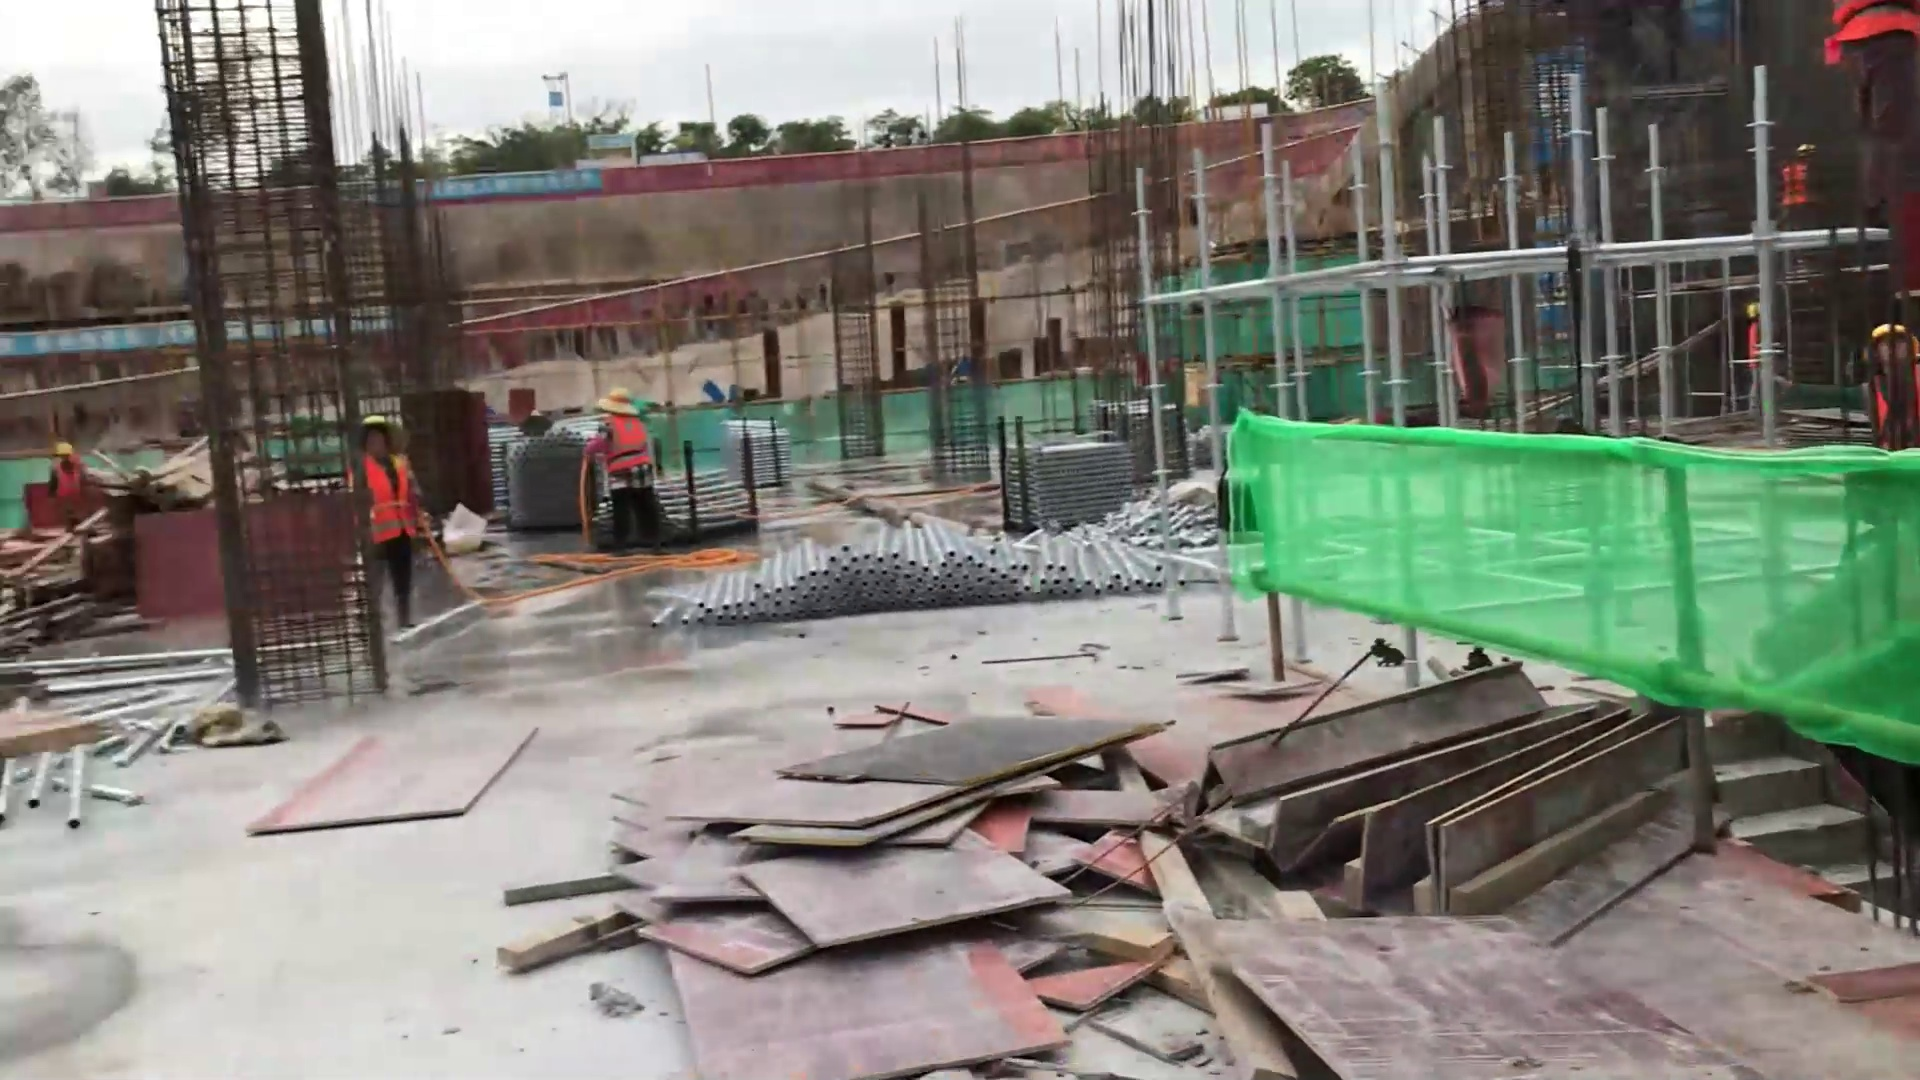helmet: (1864, 321, 1918, 369), (363, 414, 399, 451), (593, 390, 646, 416), (51, 441, 76, 459), (1799, 141, 1818, 160), (1747, 304, 1766, 318)
person: (1834, 1, 1896, 296), (351, 413, 431, 623), (586, 386, 664, 546), (1851, 306, 1920, 461), (1764, 143, 1816, 230), (51, 436, 91, 518), (1746, 290, 1769, 408)
scaffold: (708, 547, 1188, 624), (1011, 444, 1138, 522), (506, 432, 594, 516), (724, 421, 783, 486)
vest: (1864, 362, 1920, 449), (1826, 1, 1907, 54), (367, 449, 408, 546), (603, 418, 646, 474), (53, 456, 84, 500), (1779, 166, 1809, 204), (1749, 320, 1764, 372)
